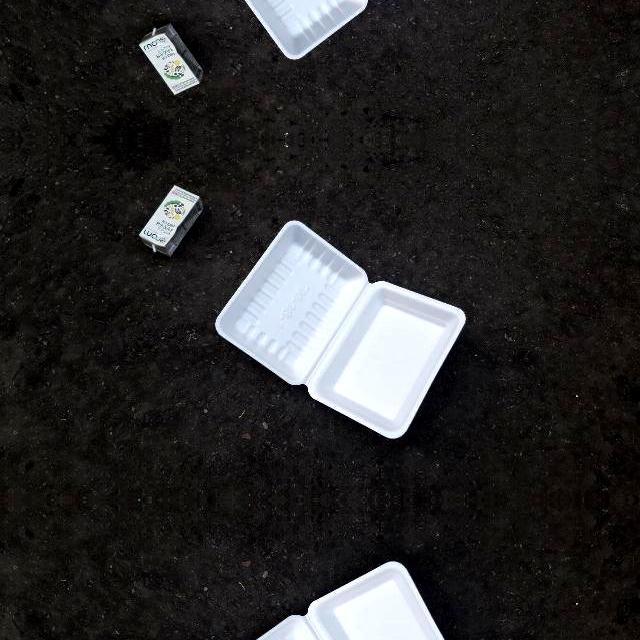Styrofoam: (215, 220, 466, 438), (215, 220, 465, 438), (215, 561, 465, 640), (215, 0, 465, 60), (256, 562, 445, 640)
